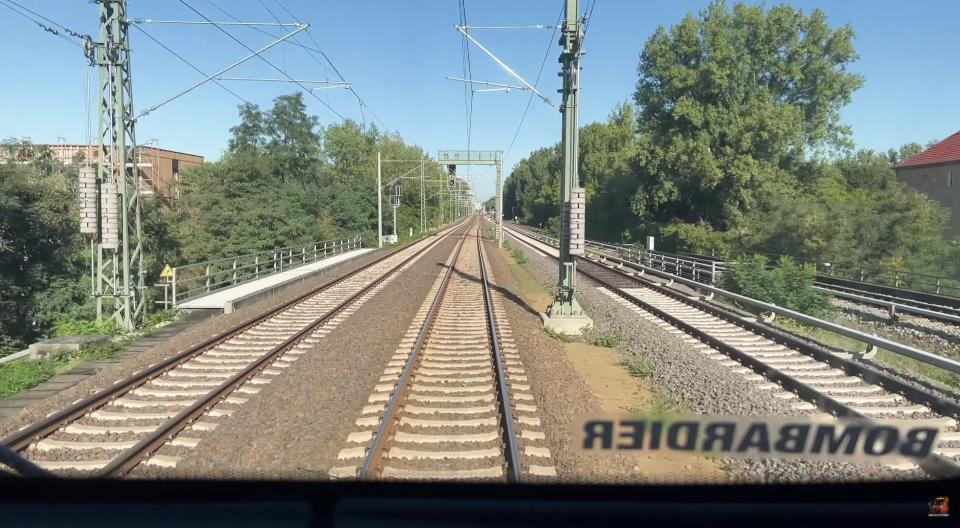Plant: (650, 387, 689, 414), (621, 355, 653, 378), (586, 329, 621, 348), (544, 325, 570, 341), (513, 249, 528, 265)
